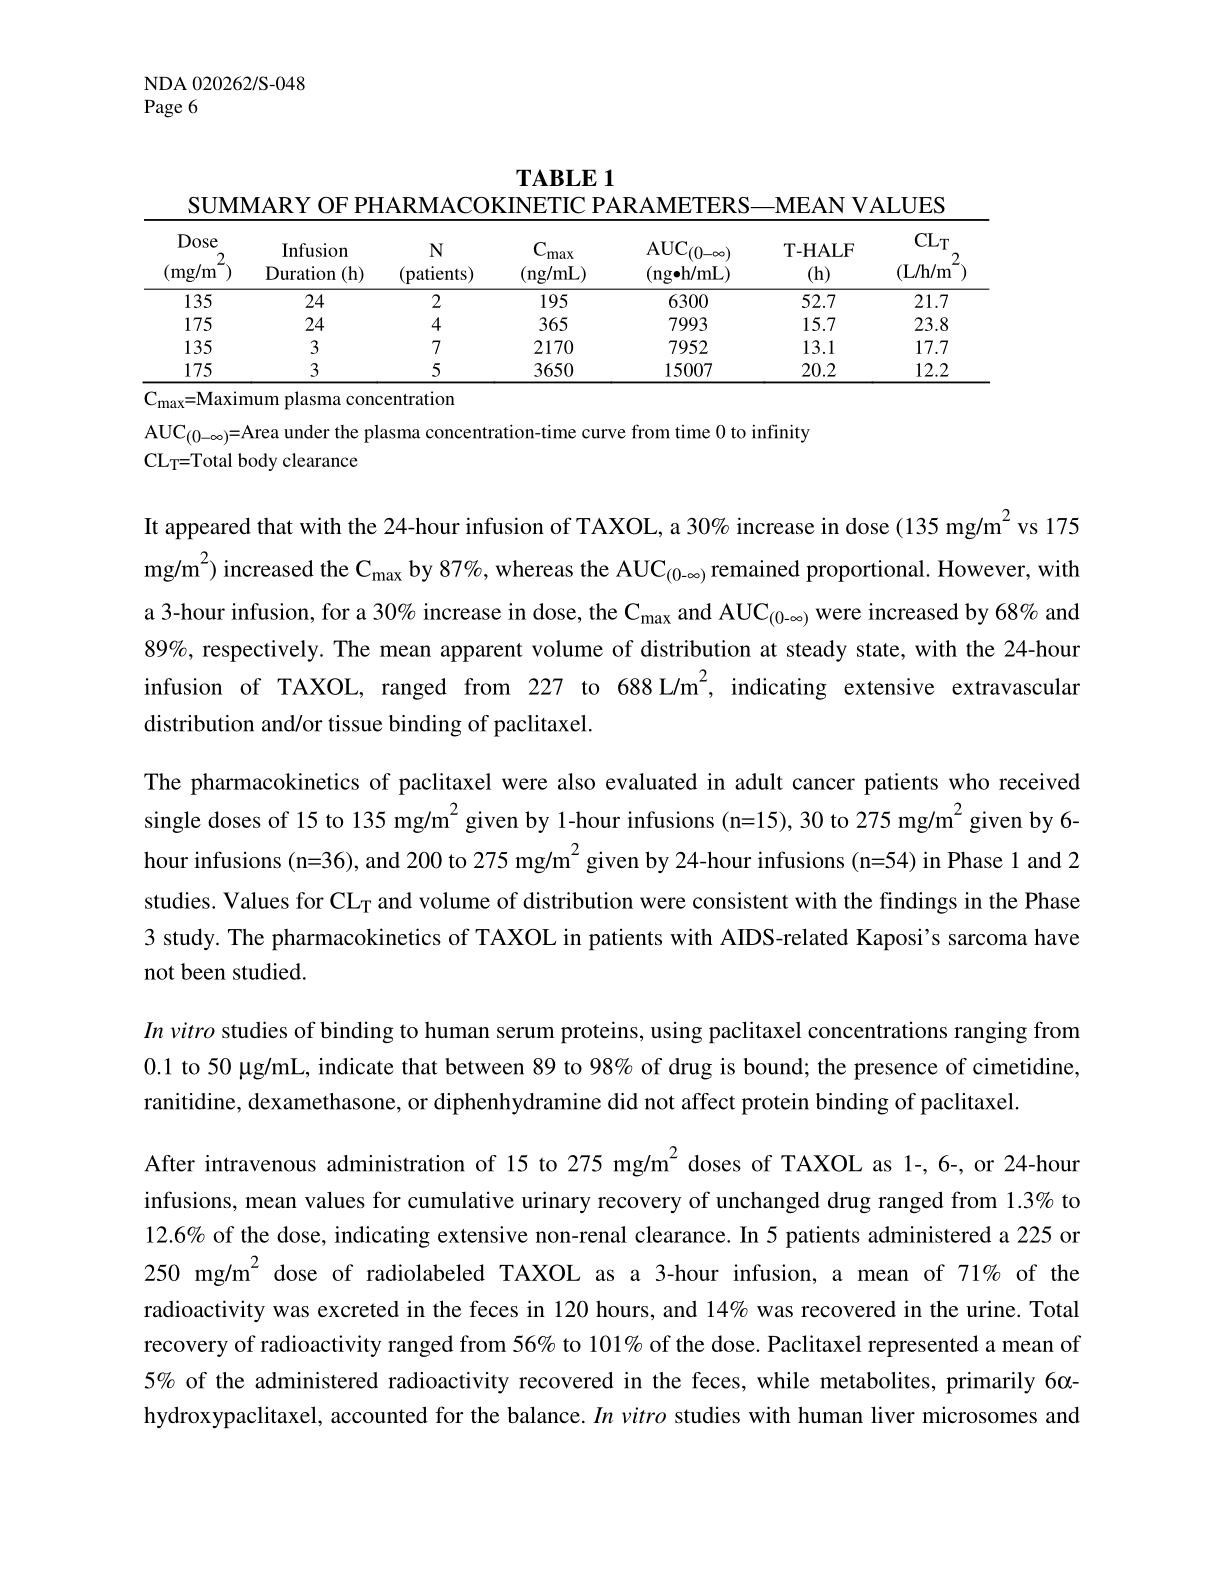partial_lined: (141, 219, 991, 384)
